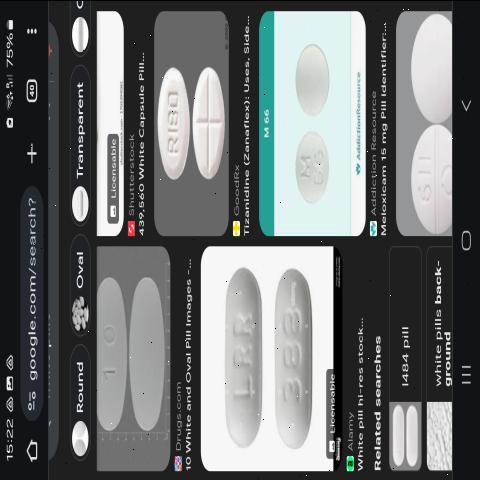Pill: (266, 252, 320, 464), (212, 258, 264, 458), (126, 246, 168, 460), (96, 255, 130, 442), (190, 42, 228, 202), (288, 18, 343, 125), (286, 121, 340, 227), (156, 43, 190, 207), (407, 398, 423, 464), (395, 403, 407, 467)
